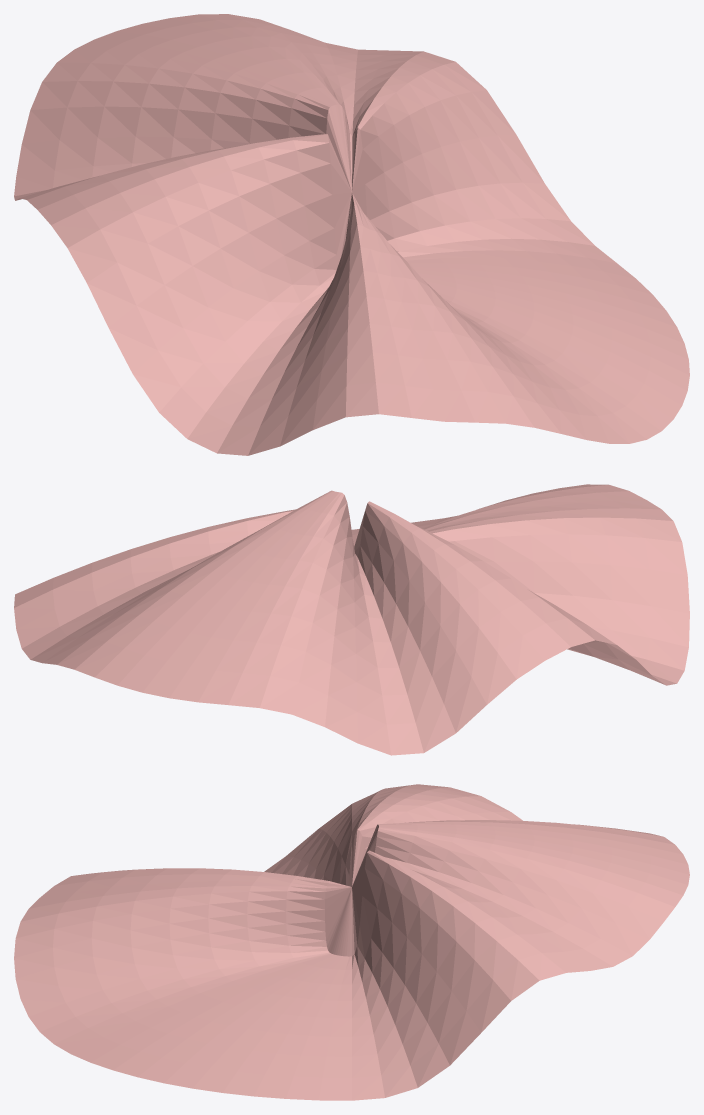
The model's file is gingival_cover_33_v2.glb.
The picture shows the model from 3 angles, top to bottom: view 1: azimuth 30°, elevation 25°; view 2: azimuth 150°, elevation 25°; view 3: azimuth 270°, elevation 25°; orthographic projection. The views are drawn at different scales.
Parts seen in each view (by area): view 1: Cover_33; view 2: Cover_33; view 3: Cover_33.
Boxes of the visible parts, x1,y1,x2,y2 form: Cover_33: [14, 14, 689, 455]; Cover_33: [14, 484, 689, 755]; Cover_33: [14, 784, 689, 1100].
Bounding box in the file's own units: 7.35 × 2.79 × 10.06.
